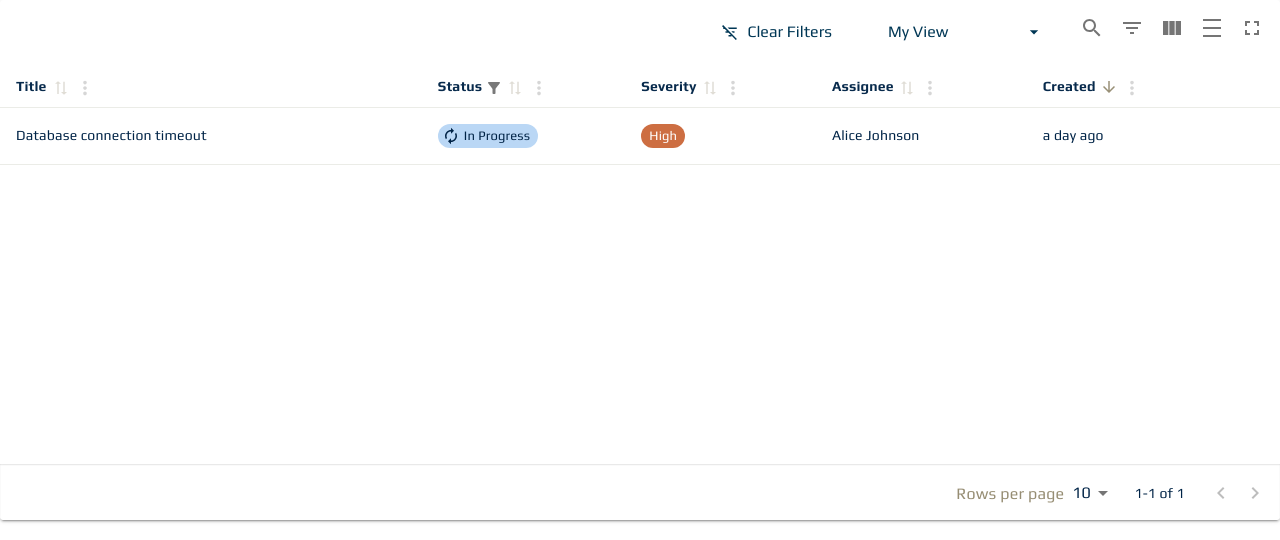
Saved Views Integration Tests › Create-and-Apply Workflow (T032, T039) › switches back to default view when selected
Expected: the text "Database connection timeout" is shown, [0, 108, 422, 165]
// Open dropdown and select default view
Click the button "My View" at (964,32), box [864, 8, 1064, 56]
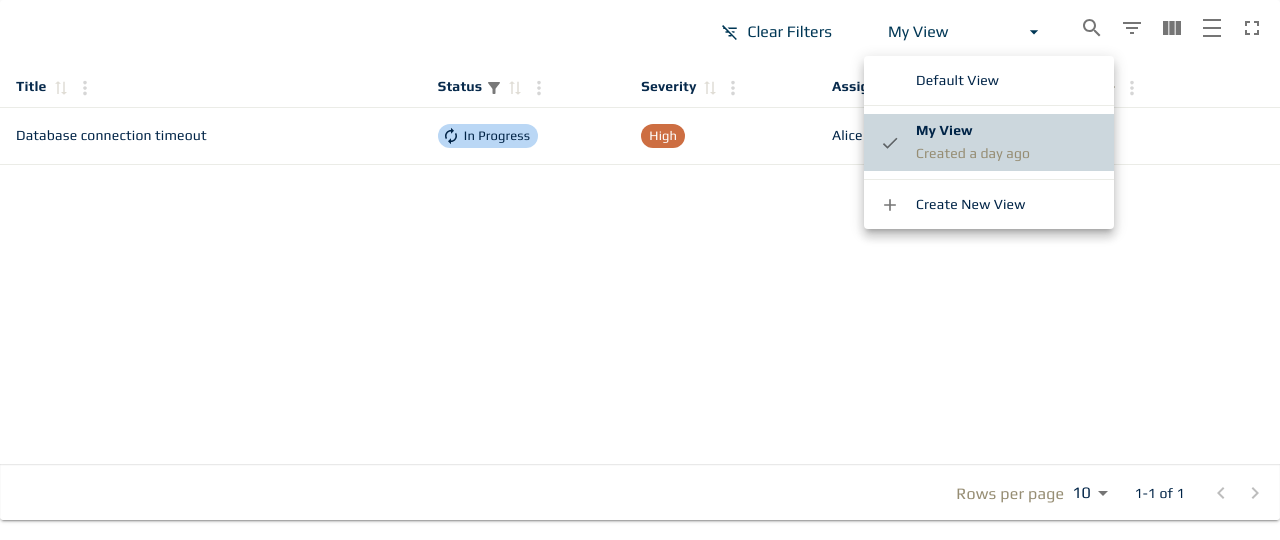
Click the menu item "Default View" at (958,80), box [916, 72, 999, 88]
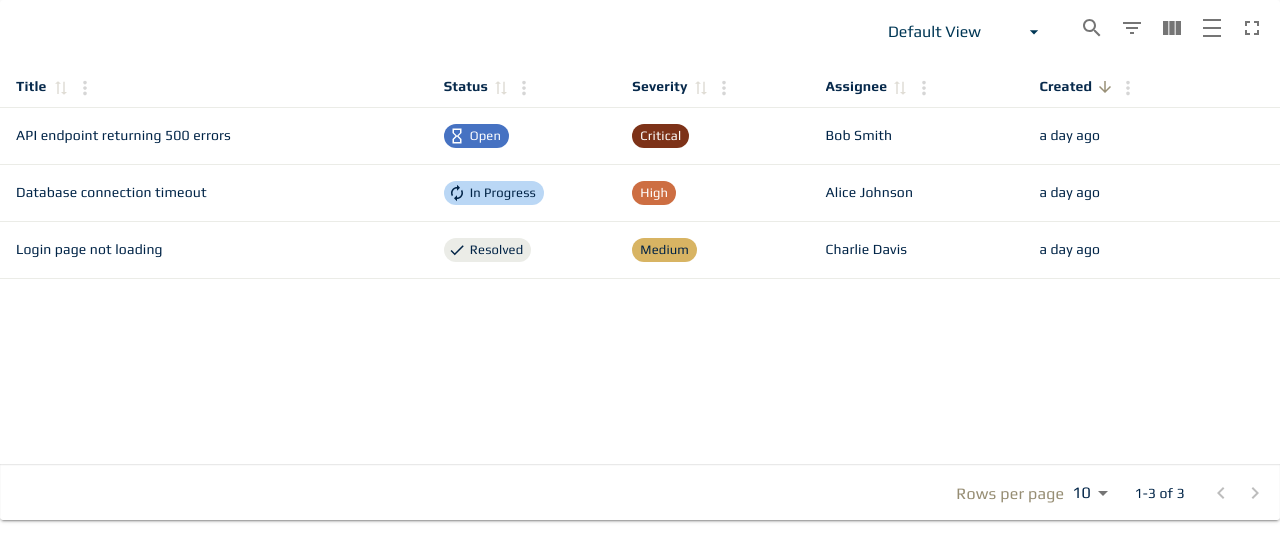
Result: the button "Default View" is shown at [864, 8, 1064, 56]
